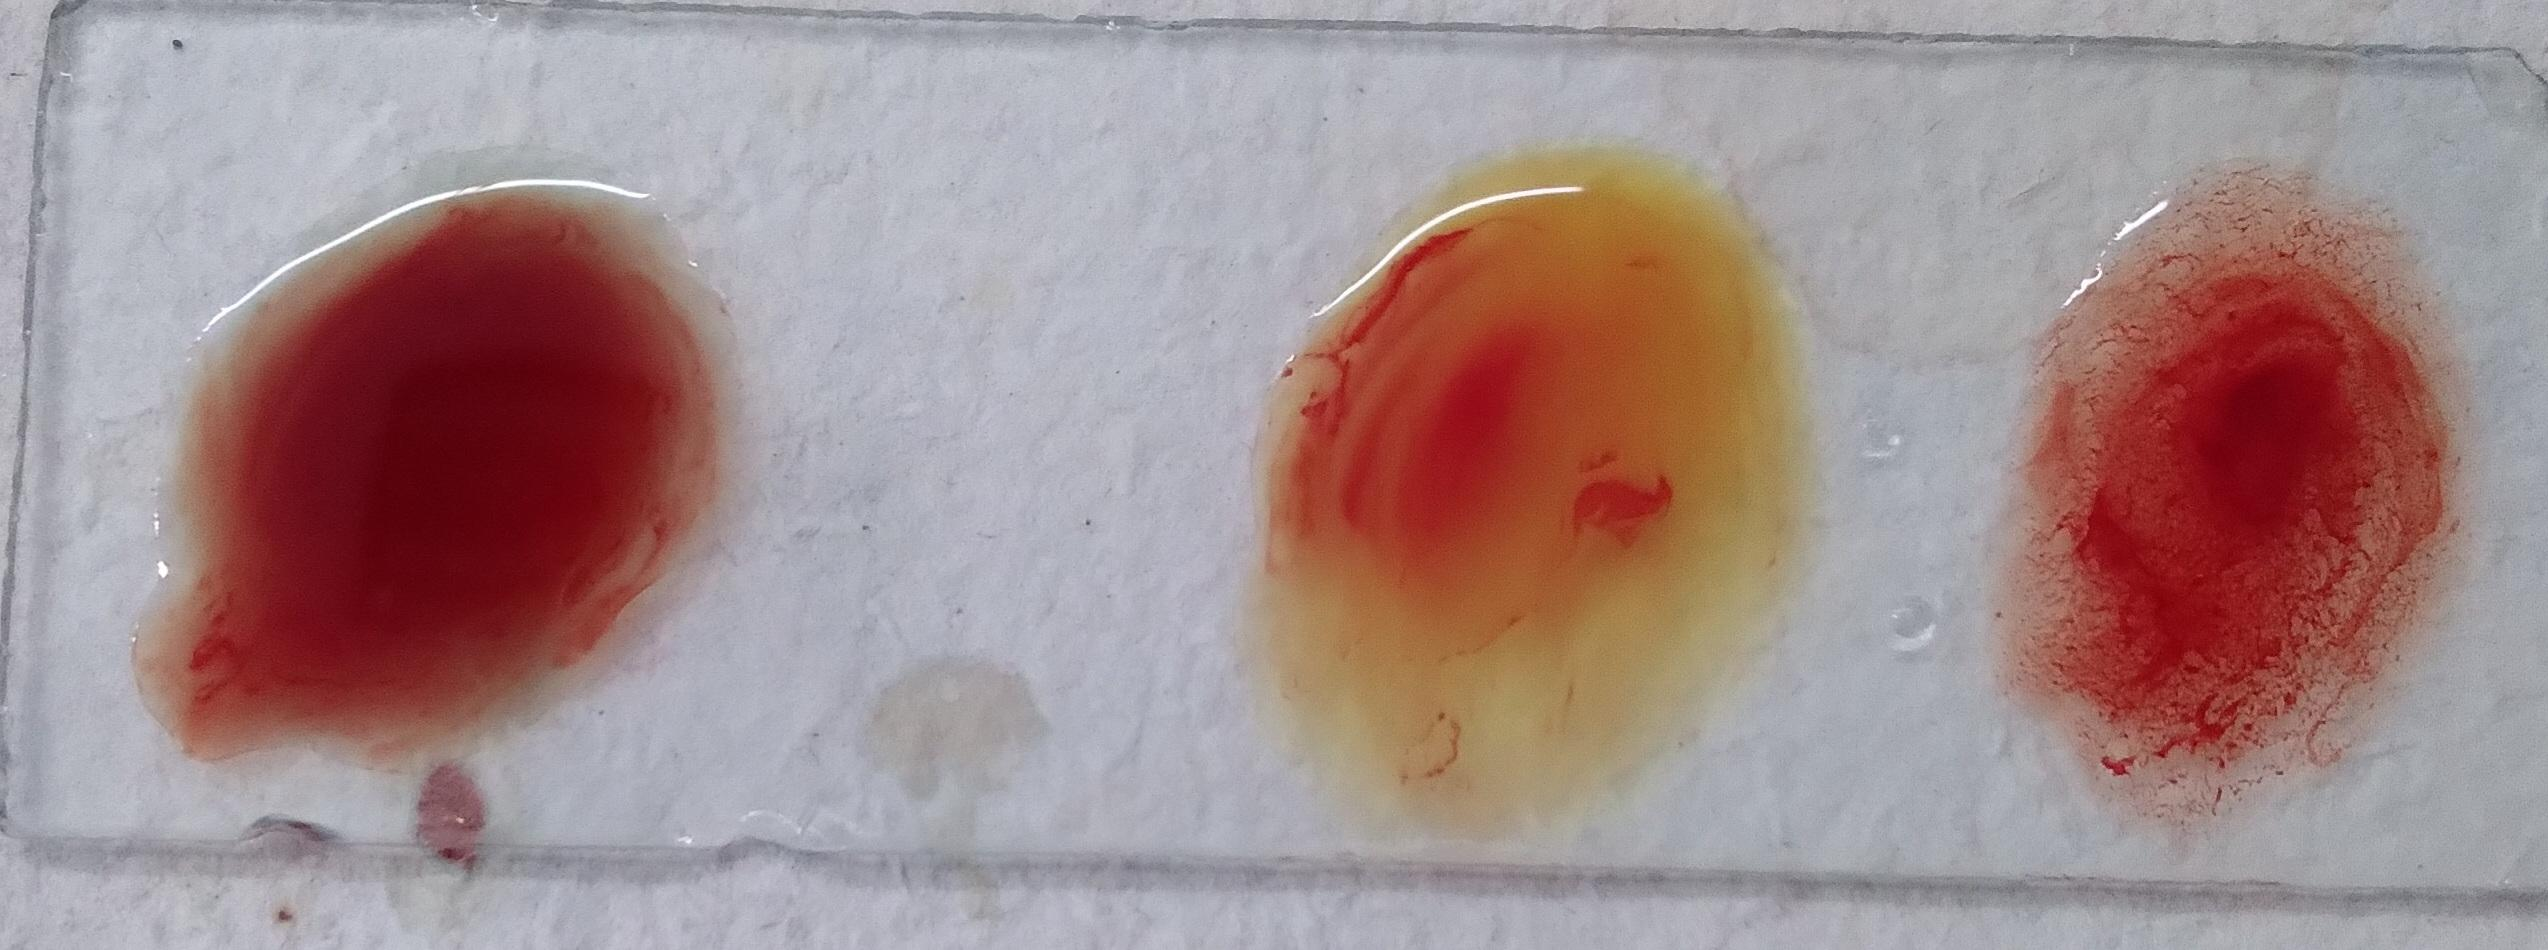D: (101, 128, 518, 755)
